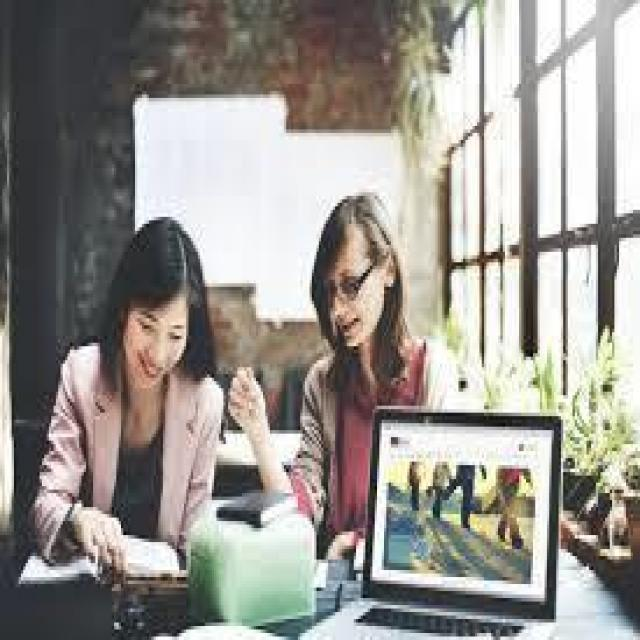person: (228, 150, 445, 577), (49, 178, 221, 577)
